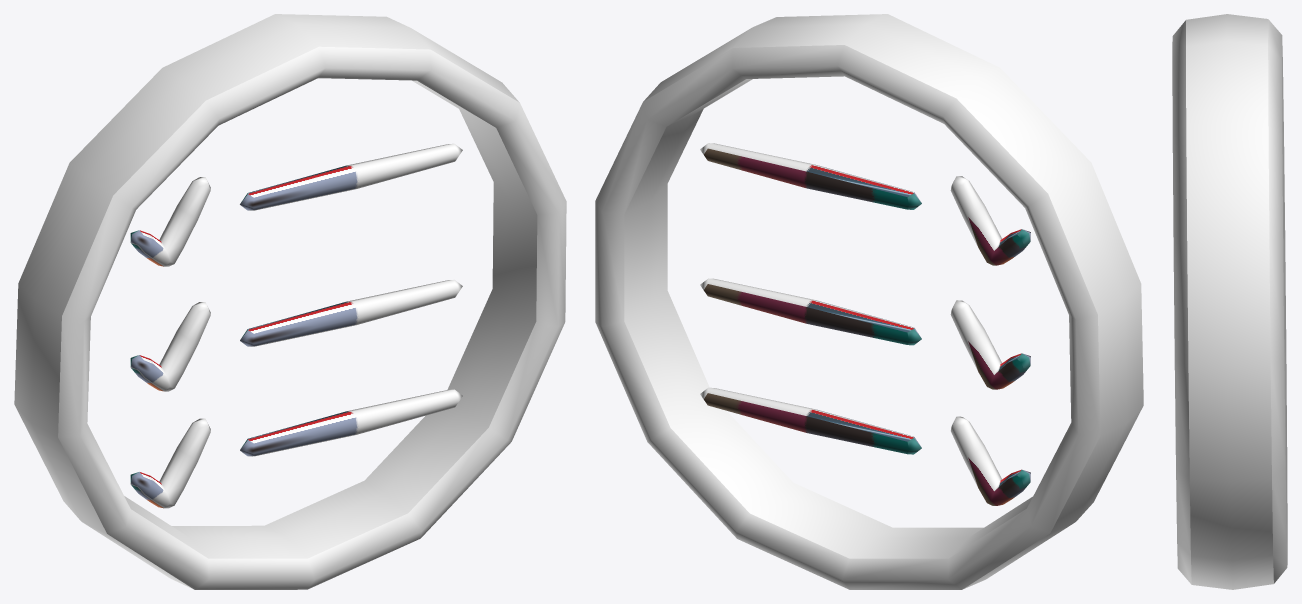
File: ringticks.fbx
3 views of the same model, side by side, from view 1: azimuth 30°, elevation 25°; view 2: azimuth 150°, elevation 25°; view 3: azimuth 270°, elevation 25° (orthographic). The views are drawn at different scales.
Parts seen in each view (by area): view 1: geo_ticks; view 2: geo_ticks; view 3: geo_ticks.
Boxes of the visible parts, box(x1,y1,x2,y2) form: geo_ticks: box(14, 14, 566, 589); geo_ticks: box(595, 14, 1143, 589); geo_ticks: box(1172, 14, 1287, 589).
Bounding box in the file's own units: 24.02 × 24.54 × 4.92.
